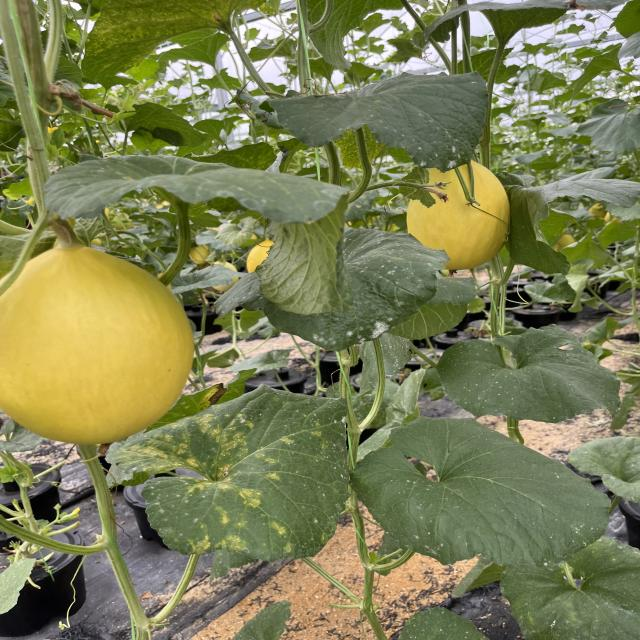downy mildew: (46, 155, 355, 317), (99, 376, 355, 558), (272, 69, 496, 168), (293, 234, 452, 342), (80, 0, 233, 87)
healthy: (379, 414, 625, 566), (434, 328, 616, 422), (502, 169, 640, 280), (490, 551, 640, 640)
